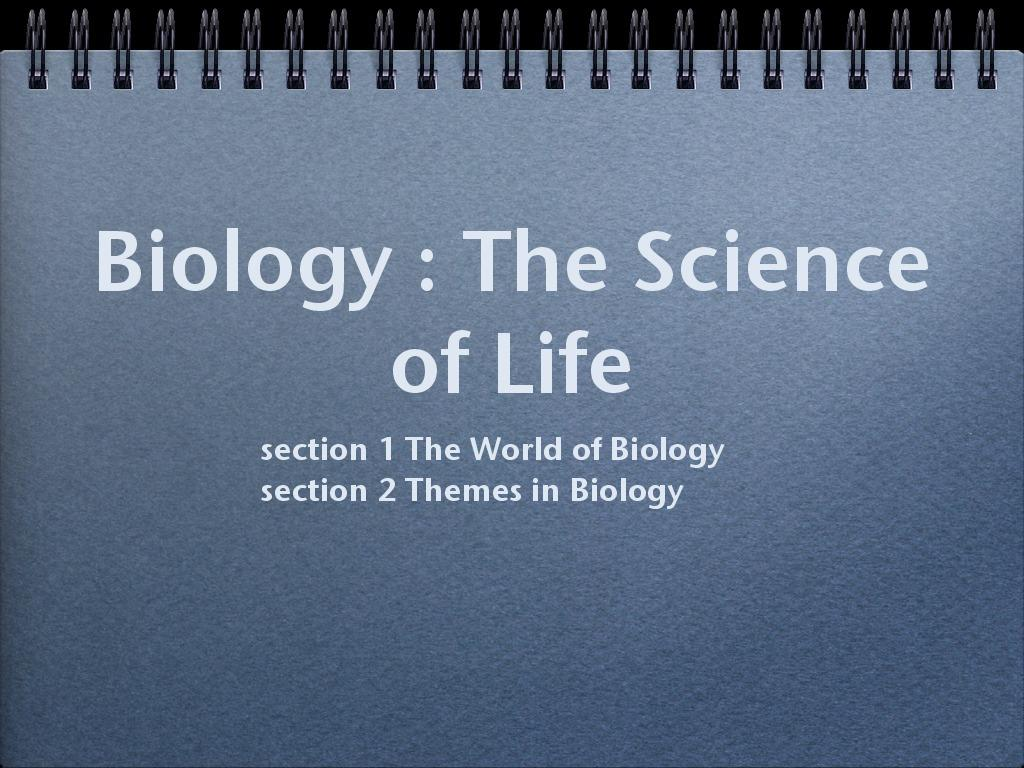subtitle: (226, 420, 758, 532)
title: (66, 206, 942, 408)
